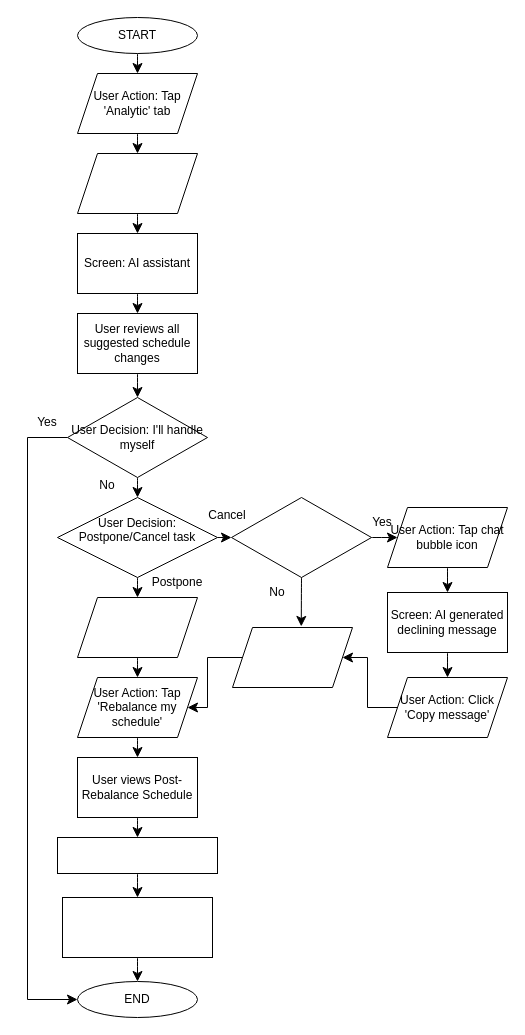
Image size: 525x1035. Some labels were removed from this diagram. Each missing label, with the centre of its shape:
"Screen: Personalized AI recovery suggestion" belongs at point 137,927.
"User Action: Click 'Help me rebalance'" belongs at point 137,183.
"User Action: Select Continue" belongs at point 137,855.
"User Action: Tap Move to later" belongs at point 137,627.
"User Action: Tap Tap 'Remove'" belongs at point 292,657.
"User Need Help on declining meesage?" belongs at point 301,537.
